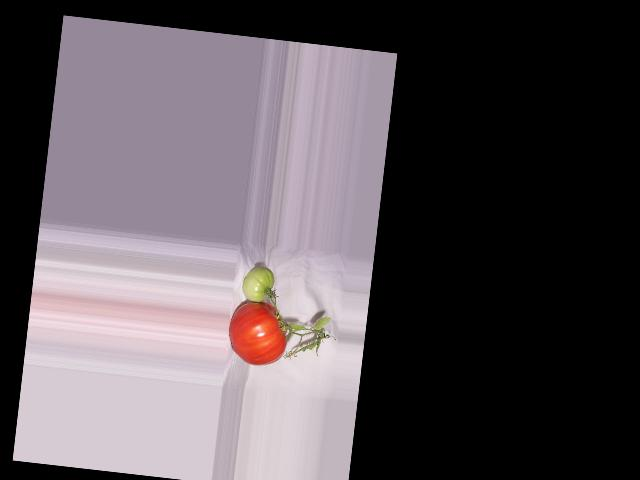tomato: (225, 298, 290, 368)
